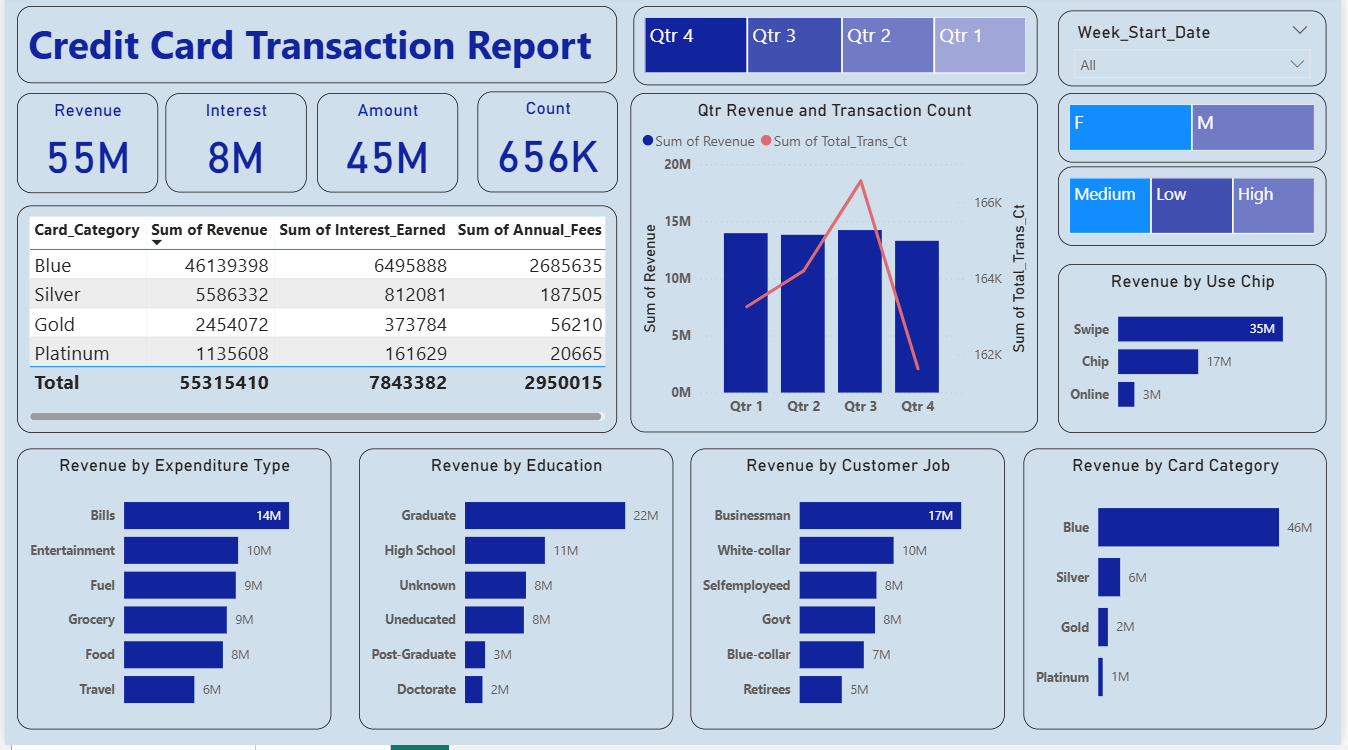

Layout of this report page (visuals, bound fields, positions):
{"tool":"powerbi","page":{"name":"credit card transaction","canvas":[1280,720],"ordinal":0},"visuals":[{"type":"barChart","title":"Revenue by Education","fields":{"Y":["Sum(credit_card cc_detail.Revenue)"],"Category":["credit_card cust_detail.Education_Level"]},"box":[339.2,436.1,301.3,269.5],"z":0},{"type":"barChart","title":"Revenue by Expenditure Type","fields":{"Y":["Sum(credit_card cc_detail.Revenue)"],"Category":["credit_card cc_detail.Exp_Type"]},"box":[12.1,436.1,301.3,269.5],"z":1000},{"type":"barChart","title":"Revenue by Customer Job","fields":{"Y":["Sum(credit_card cc_detail.Revenue)"],"Category":["credit_card cust_detail.Customer_Job"]},"box":[657.2,436.1,301.3,269.5],"z":2000},{"type":"barChart","title":"Revenue by Card Category","fields":{"Y":["Sum(credit_card cc_detail.Revenue)"],"Category":["credit_card cc_detail.Card_Category"]},"box":[976.7,436.1,290.7,269.5],"z":3000},{"type":"barChart","title":"Revenue by Use Chip","fields":{"Y":["Sum(credit_card cc_detail.Revenue)"],"Category":["credit_card cc_detail.Use_Chip"]},"box":[1010,258.9,257.4,162],"z":4000},{"type":"textbox","box":[12.1,12.1,575.4,74.2],"z":5000},{"type":"card","title":"Revenue","fields":{"Values":["Sum(credit_card cc_detail.Revenue)"]},"box":[12.1,95.4,135,96],"z":6000},{"type":"card","title":"Interest","fields":{"Values":["Sum(credit_card cc_detail.Interest_Earned)"]},"box":[154.4,95.4,135,95.4],"z":7000},{"type":"card","title":"Amount","fields":{"Values":["Sum(credit_card cc_detail.Total_Trans_Amt)"]},"box":[299.8,95.4,135,95.4],"z":8000},{"type":"card","title":"Count","fields":{"Values":["Sum(credit_card cc_detail.Total_Trans_Ct)"]},"box":[452.7,93.9,134.8,96.9],"z":9000},{"type":"tableEx","fields":{"Values":["credit_card cc_detail.Card_Category","Sum(credit_card cc_detail.Revenue)","Sum(credit_card cc_detail.Interest_Earned)","Sum(credit_card cc_detail.Annual_Fees)"]},"box":[12.1,202.9,575.4,218],"z":10000},{"type":"lineStackedColumnComboChart","title":"Qtr Revenue and Transaction Count","fields":{"Category":["credit_card cc_detail.Week_Start_Date.Variation.Date Hierarchy.Quarter"],"Y":["Sum(credit_card cc_detail.Revenue)"],"Y2":["Sum(credit_card cc_detail.Total_Trans_Ct)"]},"box":[599.6,95.4,390.7,325.6],"z":11000},{"type":"treemap","fields":{"Group":["credit_card cc_detail.Week_Start_Date.Variation.Date Hierarchy.Quarter"],"Values":["Avg(credit_card cc_detail.Client_Num)"]},"box":[602.7,12.1,387.6,75.7],"z":12000},{"type":"slicer","fields":{"Values":["credit_card cc_detail.Week_Start_Date"]},"box":[1010,15.1,257.4,72.7],"z":13000},{"type":"treemap","fields":{"Group":["credit_card cust_detail.Gender"],"Values":["Avg(credit_card cc_detail.Client_Num)"]},"box":[1010,95.4,257.4,66.6],"z":14000},{"type":"treemap","fields":{"Group":["credit_card cust_detail.IncomeGroup"],"Values":["Avg(credit_card cc_detail.Client_Num)"]},"box":[1010,165,257.4,75.7],"z":15000}]}

Visuals, with their boxes in screenshot pixels (x1, y1, x2, y2), scaled from the page's 1280x720 canvas onto the 1348x750 screenshot:
"Revenue by Education" barChart: (x1=357, y1=454, x2=675, y2=735)
"Revenue by Expenditure Type" barChart: (x1=13, y1=454, x2=330, y2=735)
"Revenue by Customer Job" barChart: (x1=692, y1=454, x2=1009, y2=735)
"Revenue by Card Category" barChart: (x1=1029, y1=454, x2=1335, y2=735)
"Revenue by Use Chip" barChart: (x1=1064, y1=270, x2=1335, y2=438)
textbox: (x1=13, y1=13, x2=619, y2=90)
"Revenue" card: (x1=13, y1=99, x2=155, y2=199)
"Interest" card: (x1=163, y1=99, x2=305, y2=199)
"Amount" card: (x1=316, y1=99, x2=458, y2=199)
"Count" card: (x1=477, y1=98, x2=619, y2=199)
tableEx - credit_card cc_detail.Card_Category x Sum(credit_card cc_detail.Revenue): (x1=13, y1=211, x2=619, y2=438)
"Qtr Revenue and Transaction Count" lineStackedColumnComboChart: (x1=631, y1=99, x2=1043, y2=439)
treemap - credit_card cc_detail.Week_Start_Date.Variation.Date Hierarchy.Quarter x Avg(credit_card cc_detail.Client_Num): (x1=635, y1=13, x2=1043, y2=91)
slicer - credit_card cc_detail.Week_Start_Date: (x1=1064, y1=16, x2=1335, y2=91)
treemap - credit_card cust_detail.Gender x Avg(credit_card cc_detail.Client_Num): (x1=1064, y1=99, x2=1335, y2=169)
treemap - credit_card cust_detail.IncomeGroup x Avg(credit_card cc_detail.Client_Num): (x1=1064, y1=172, x2=1335, y2=251)
